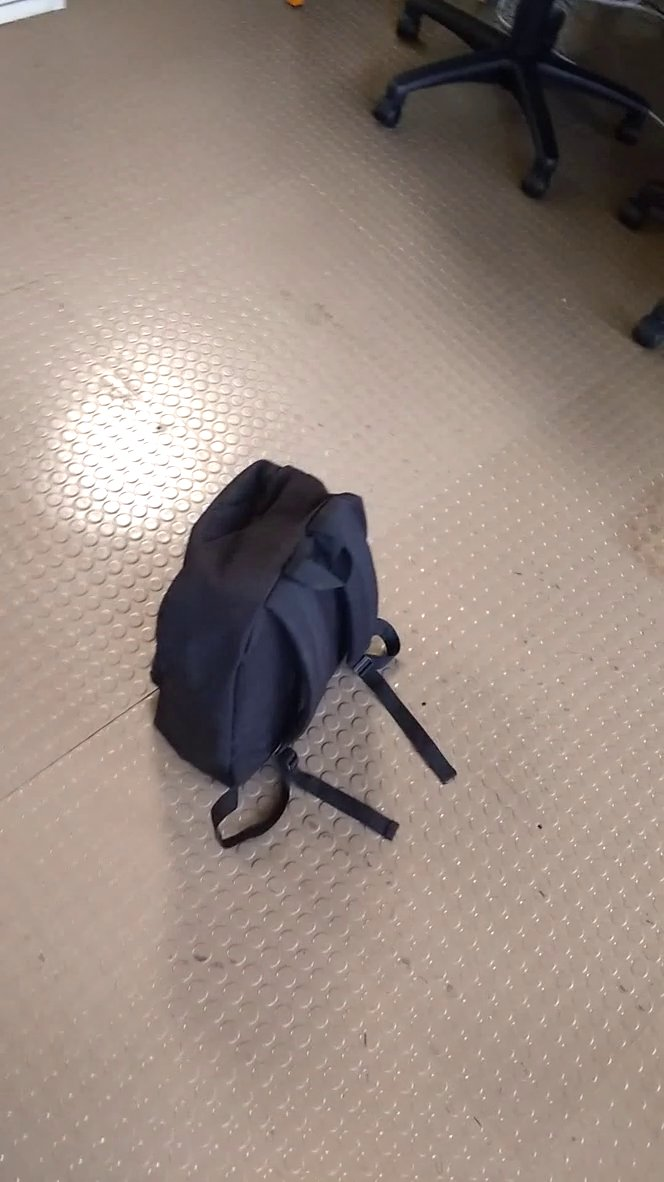bag: (136, 450, 475, 857)
